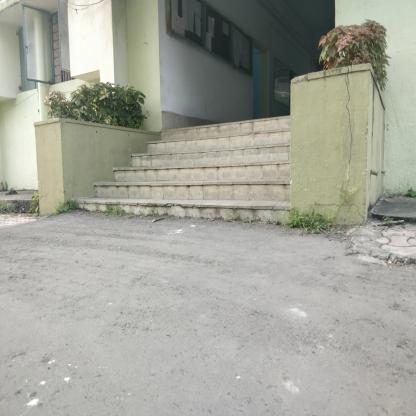stairs: (110, 141, 285, 225)
